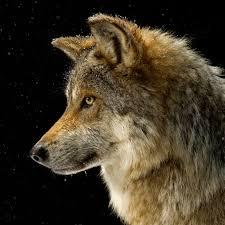Wolf: (29, 12, 224, 224)
